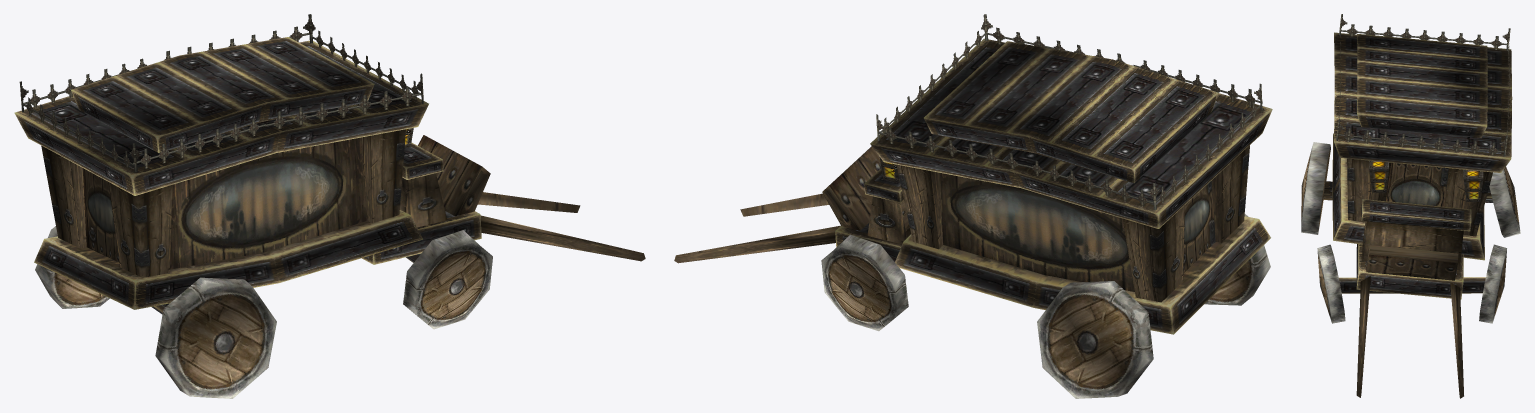
The model's file is moonbrookhearse.obj.
The picture shows the model from 3 angles, left to right: view 1: azimuth 30°, elevation 25°; view 2: azimuth 150°, elevation 25°; view 3: azimuth 270°, elevation 25°; orthographic projection. The views are drawn at different scales.
Visible parts, largest first — view 1: MOONBROOKHEARSE4, MOONBROOKHEARSE0, MOONBROOKHEARSE2, MOONBROOKHEARSE1, MOONBROOKHEARSE6, MOONBROOKHEARSE3; view 2: MOONBROOKHEARSE4, MOONBROOKHEARSE0, MOONBROOKHEARSE2, MOONBROOKHEARSE1, MOONBROOKHEARSE6, MOONBROOKHEARSE3; view 3: MOONBROOKHEARSE4, MOONBROOKHEARSE1, MOONBROOKHEARSE0, MOONBROOKHEARSE3, MOONBROOKHEARSE6, MOONBROOKHEARSE5.
Part boxes in pixels (x1,y1,x2,y2): MOONBROOKHEARSE4: (14,37,481,314); MOONBROOKHEARSE0: (35,226,492,398); MOONBROOKHEARSE2: (170,137,367,269); MOONBROOKHEARSE1: (41,129,645,277); MOONBROOKHEARSE6: (19,14,423,172); MOONBROOKHEARSE3: (82,135,490,262); MOONBROOKHEARSE4: (835,38,1272,334); MOONBROOKHEARSE0: (821,213,1270,398); MOONBROOKHEARSE2: (940,173,1134,291); MOONBROOKHEARSE1: (674,145,1249,302); MOONBROOKHEARSE6: (876,14,1262,210); MOONBROOKHEARSE3: (822,146,1215,273); MOONBROOKHEARSE4: (1323,32,1512,299); MOONBROOKHEARSE1: (1347,158,1492,398); MOONBROOKHEARSE0: (1301,142,1520,323); MOONBROOKHEARSE3: (1366,162,1458,280); MOONBROOKHEARSE6: (1336,14,1510,156); MOONBROOKHEARSE5: (1369,160,1483,201).
Size of the model in its own units: 8.24 by 3.87 by 3.9.
7 materials, 7 textured.
